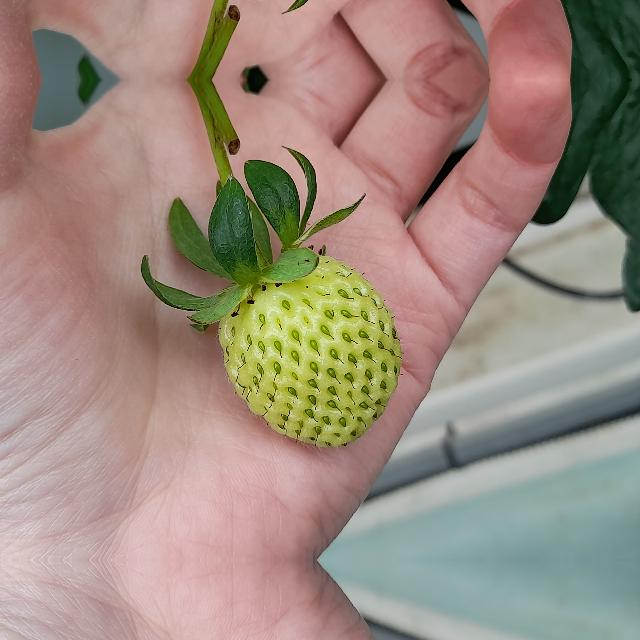Health_25: (218, 255, 402, 448)
